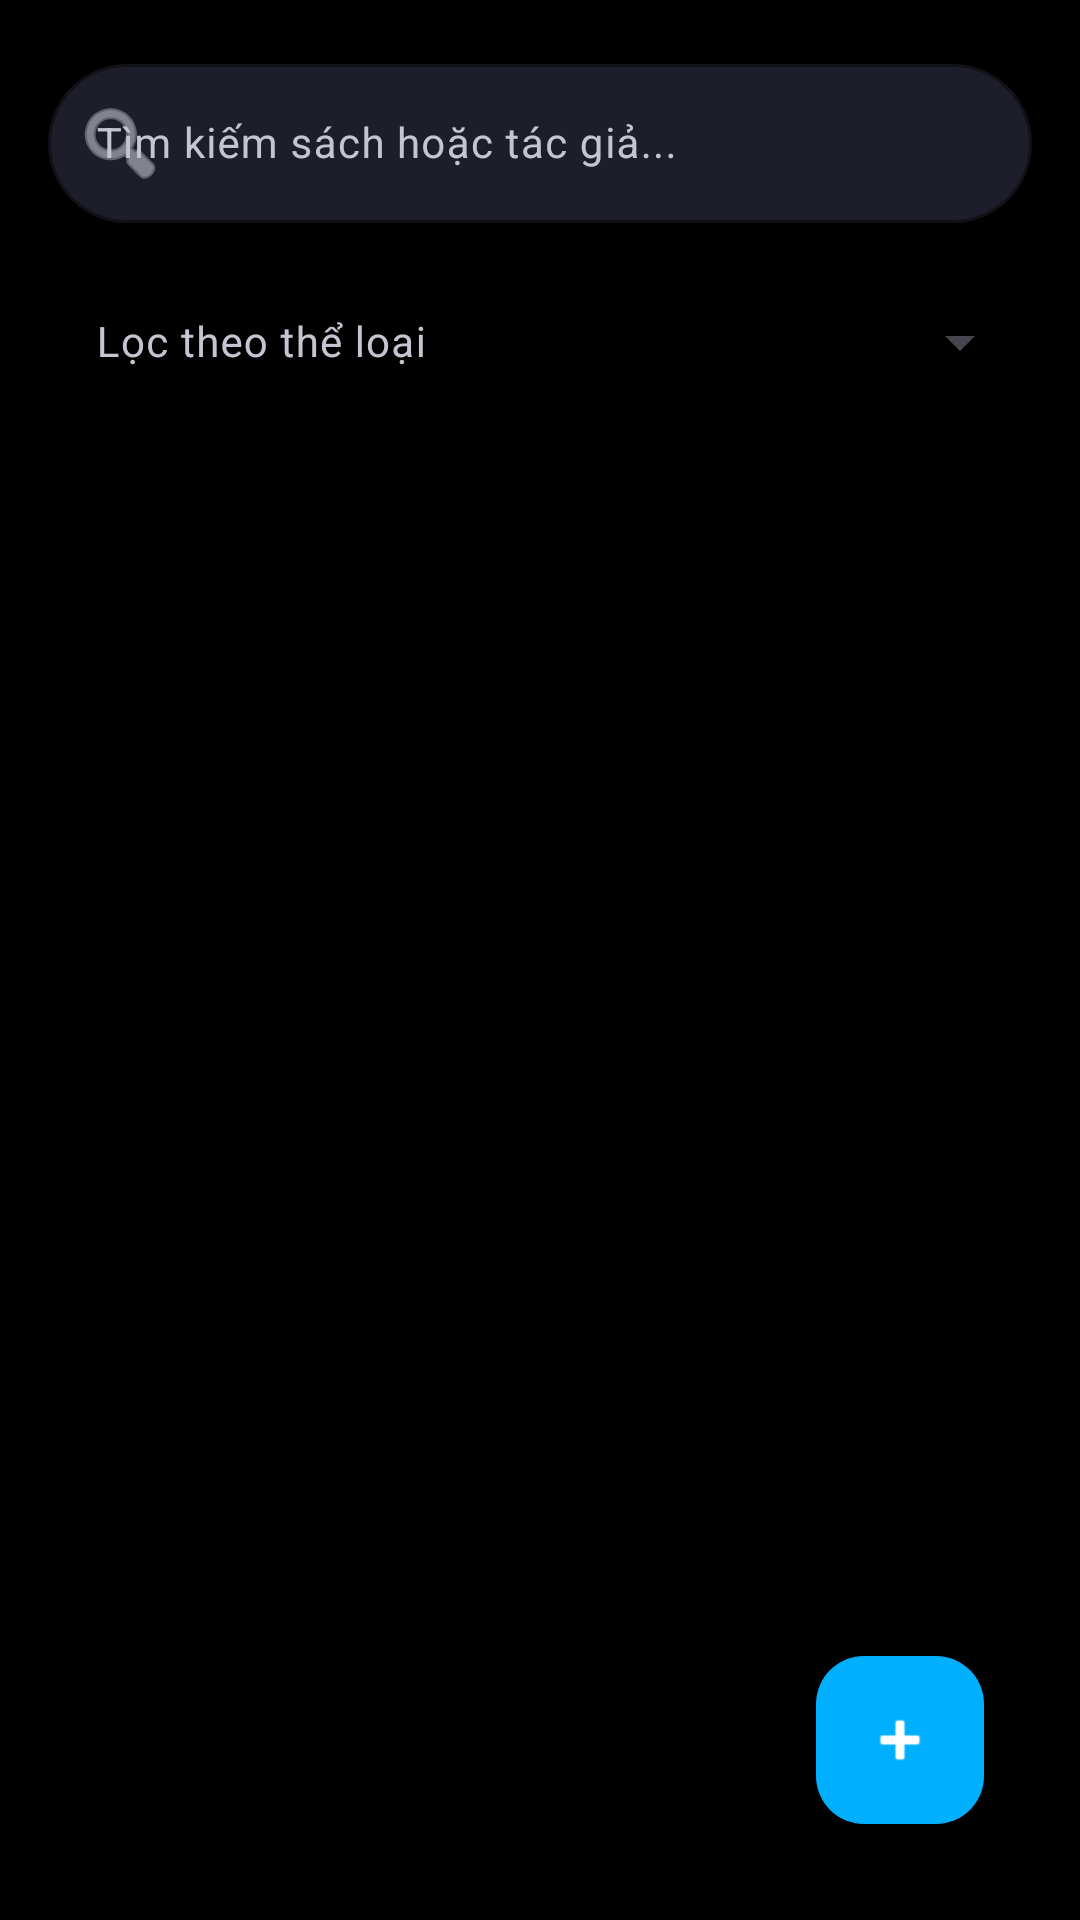

Screen size 1080 x 1920. Icon name, then its center in pixels as [x,y]:
Add book: [900,1740]
